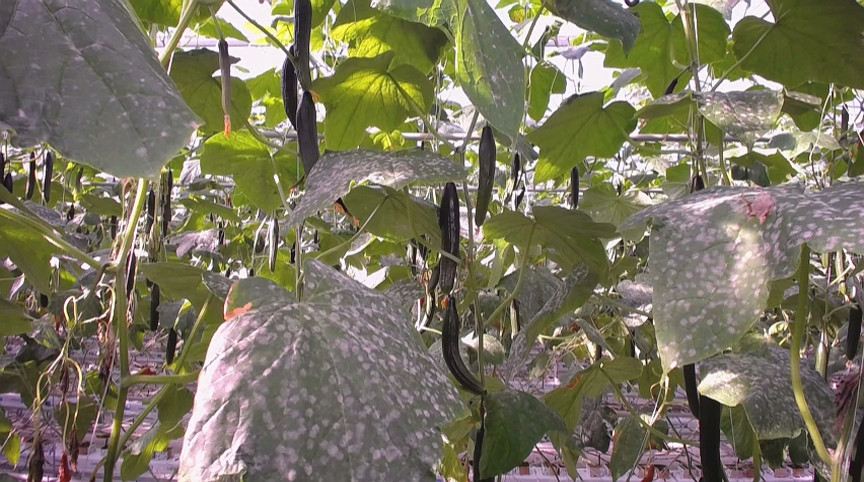cucumber: (440, 298, 486, 396), (440, 182, 461, 295), (474, 125, 496, 228), (297, 91, 322, 175), (281, 46, 299, 128), (847, 307, 864, 359), (40, 152, 56, 203), (23, 152, 35, 202), (150, 283, 162, 333), (165, 327, 178, 369)
